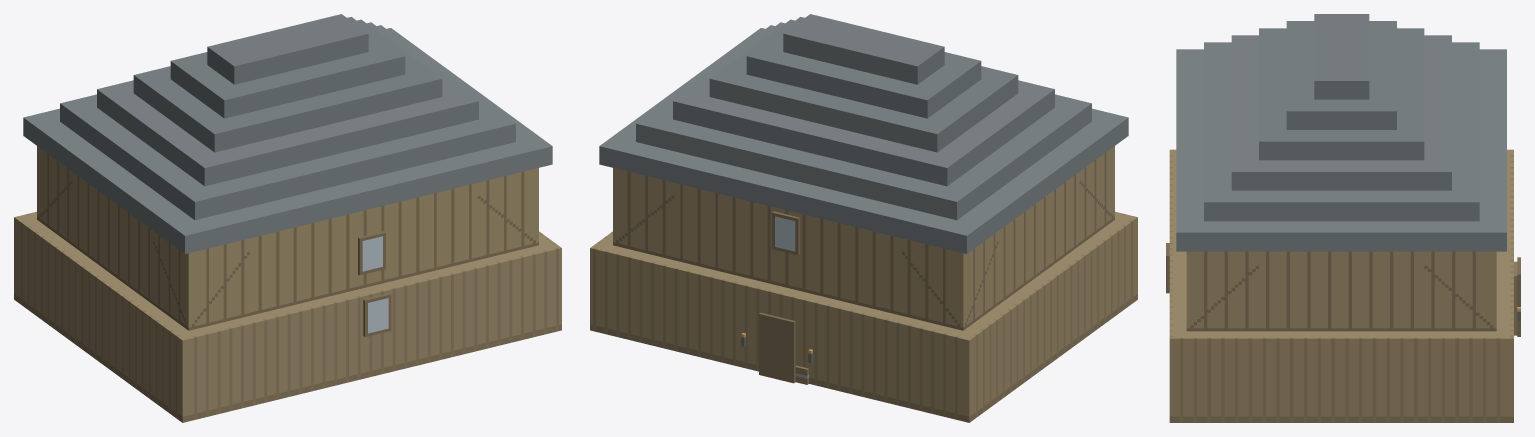
Rendered from mansion_04.glb.
3 views of the same model, side by side, from view 1: azimuth 30°, elevation 25°; view 2: azimuth 150°, elevation 25°; view 3: azimuth 270°, elevation 25° (orthographic). The views are drawn at different scales.
Visible parts, largest first — view 1: mansion_04; view 2: mansion_04; view 3: mansion_04.
Boxes of the visible parts, x1,y1,x2,y2 form: mansion_04: (14,14,561,422); mansion_04: (590,14,1137,422); mansion_04: (1166,14,1520,422).
Bounding box in the file's own units: 13 × 9 × 10.3.
